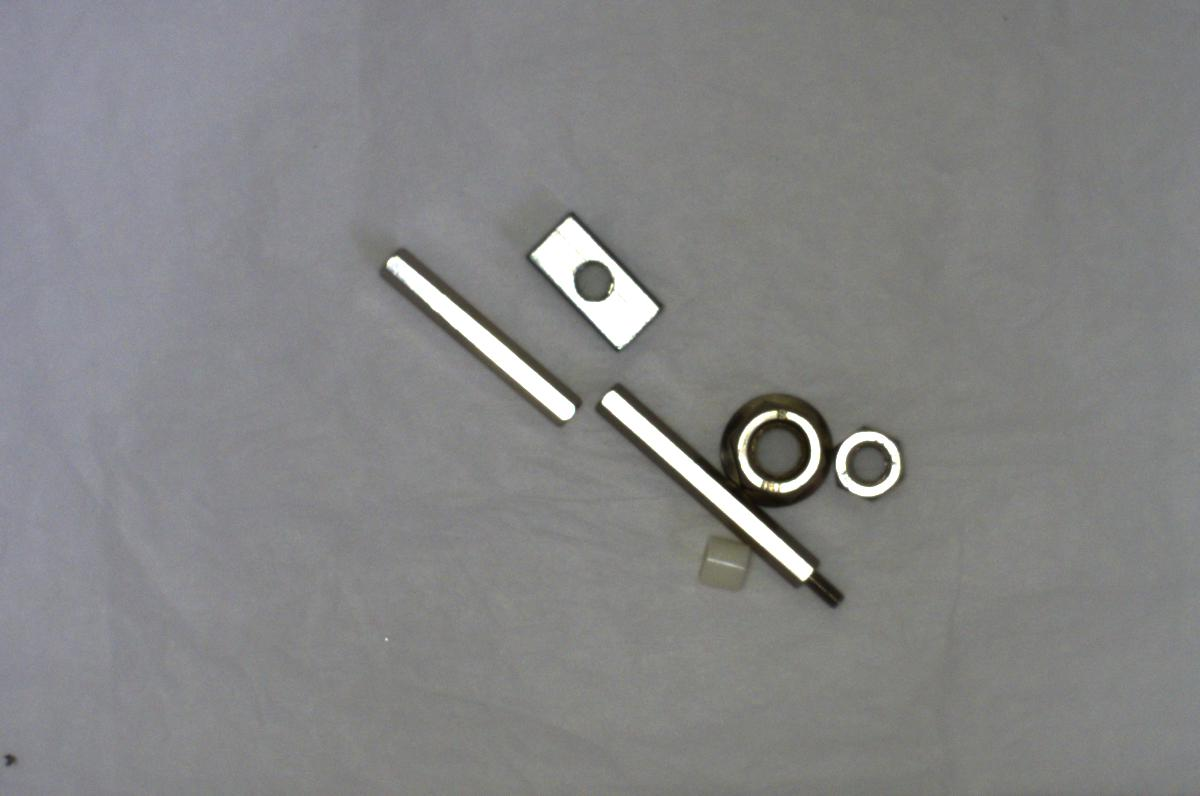Flange nut: (713, 382, 835, 508)
Hexagon nut: (827, 422, 913, 509)
Hexagonal steel column: (588, 382, 858, 615)
Plastic cushion pillar: (687, 525, 765, 599)
Rectangular nut: (526, 210, 666, 352)
Spring washer: (375, 243, 578, 427)
